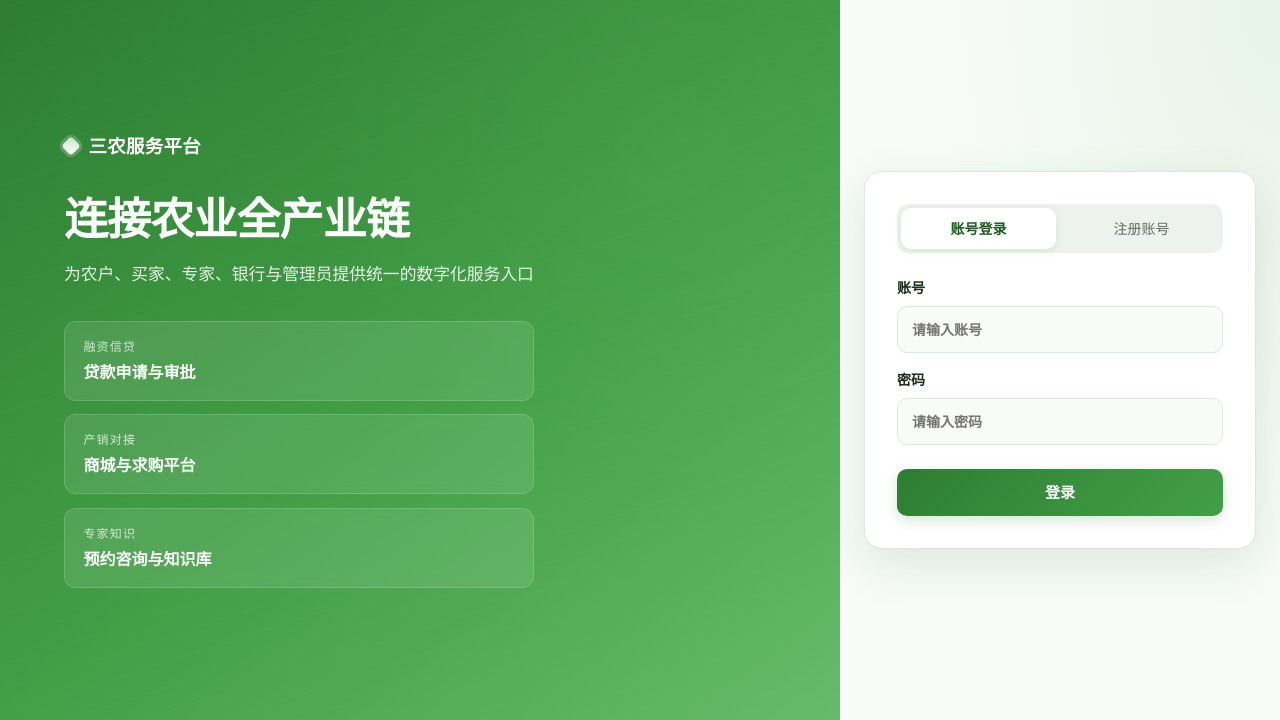
Login page › shows validation message when login fields are empty
The image size is (1280, 720).
Step 1. Click the button "登录" → click(1060, 493), box [897,469,1223,516]
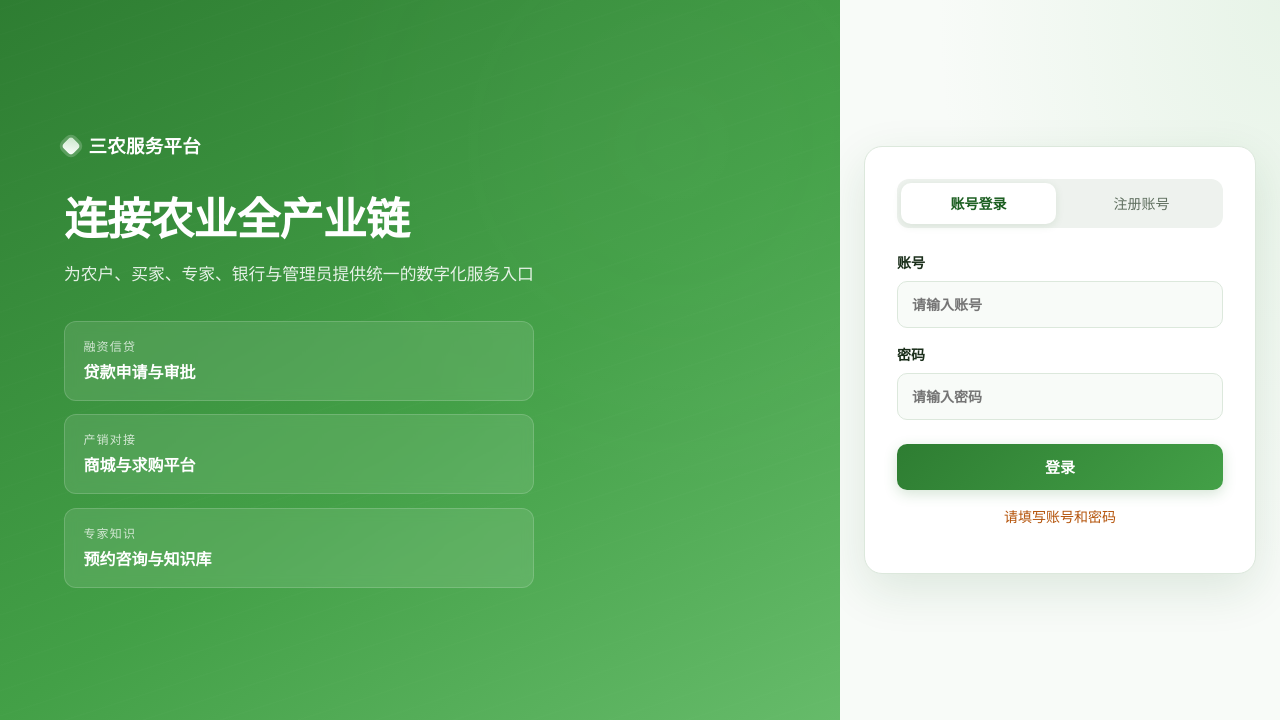
Expected: the text "请填写账号和密码" is shown, [1004,507,1116,526]
